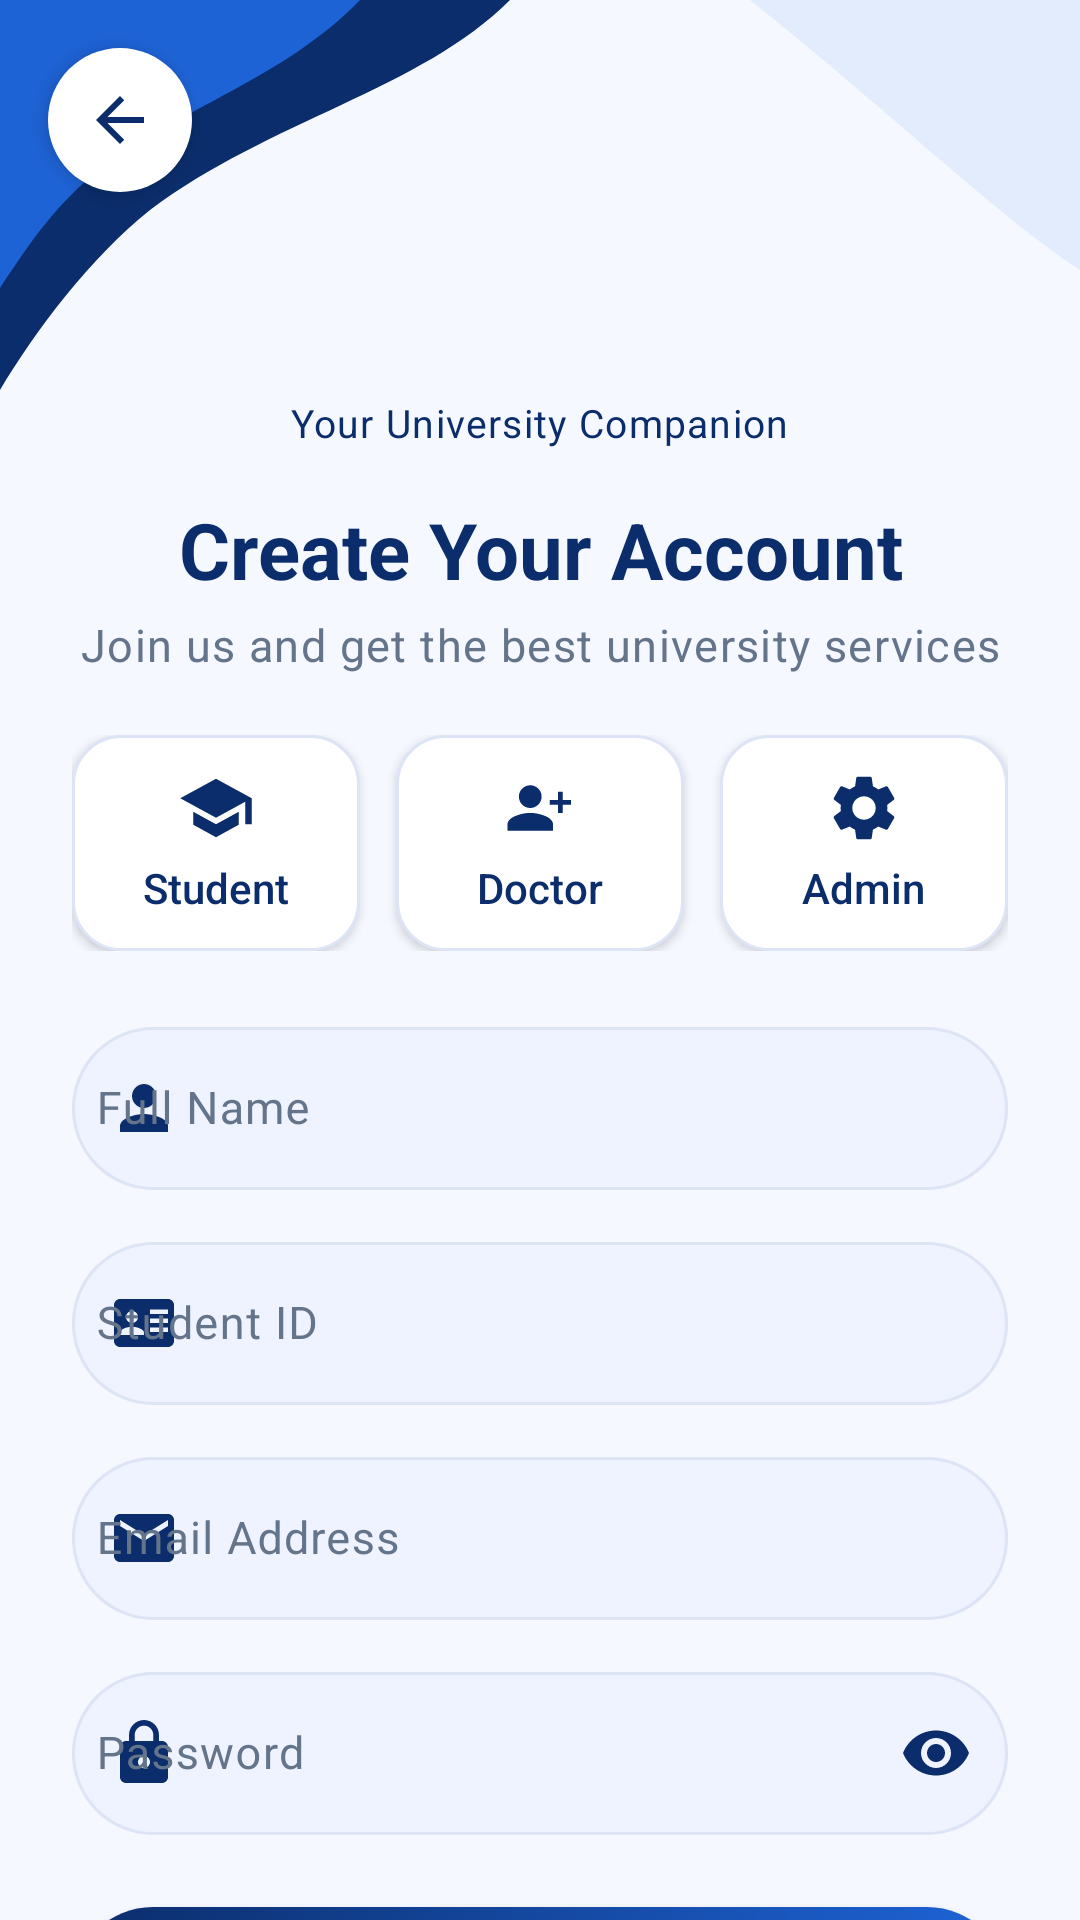

Screen size 1080 x 1920. Icon name, then its center in pixels as (x,y):
Back: (120,120)
school: (216,808)
settings: (864,808)
